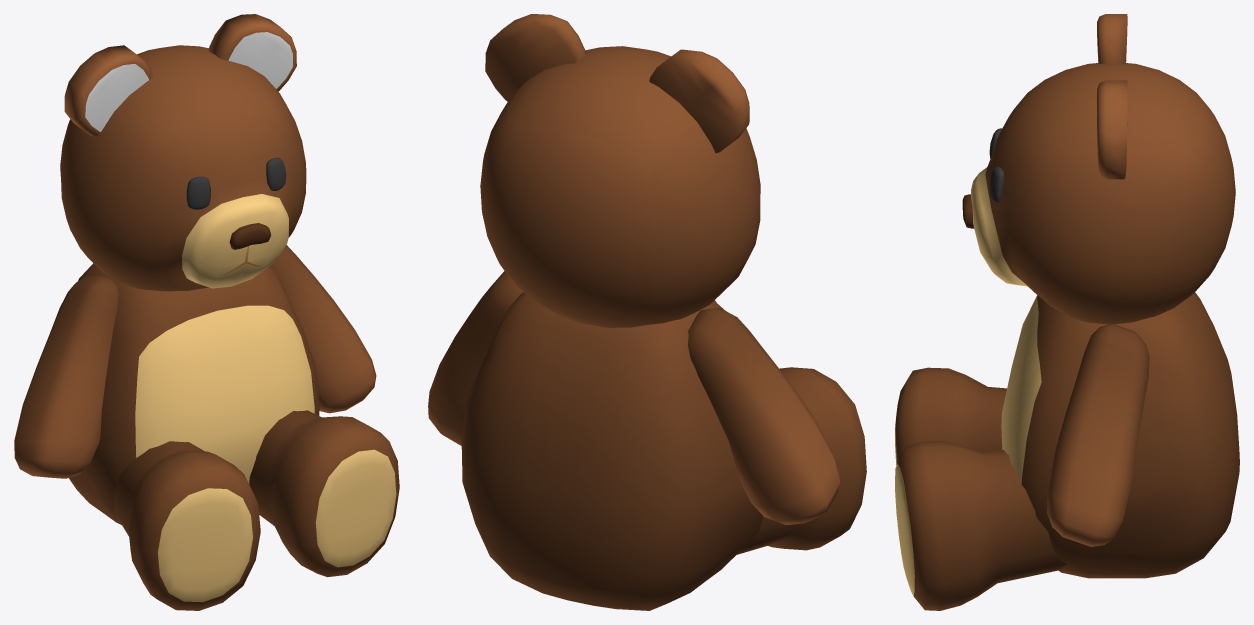
The model's file is _ear.fbx.
3 renders of one model, left to right at view 1: azimuth 30°, elevation 25°; view 2: azimuth 150°, elevation 25°; view 3: azimuth 270°, elevation 25°, orthographic. The views are drawn at different scales.
Visible parts, largest first — view 1: bear; view 2: bear; view 3: bear.
Boxes of the visible parts, box(x1,y1,x2,y2) form: bear: box(14, 14, 399, 610); bear: box(428, 14, 866, 610); bear: box(895, 14, 1239, 610).
Bounding box in the file's own units: 25.05 × 33.61 × 20.38.
1 material, 1 textured.
